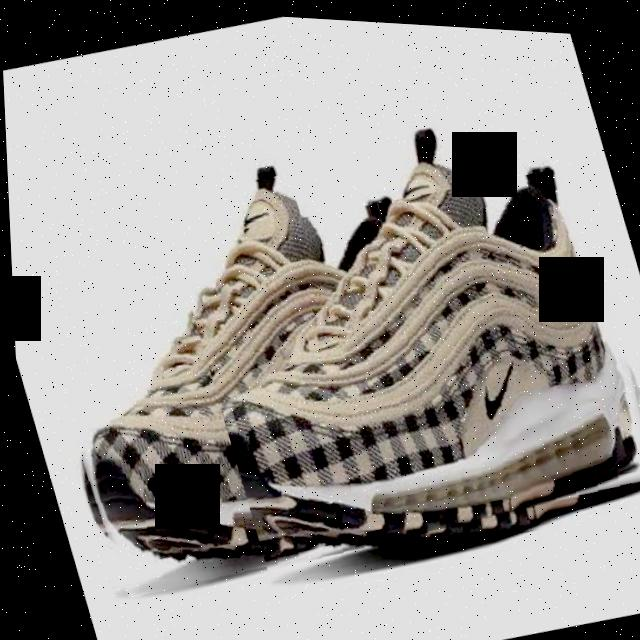shoe: (165, 135, 640, 586), (5, 156, 394, 612)
